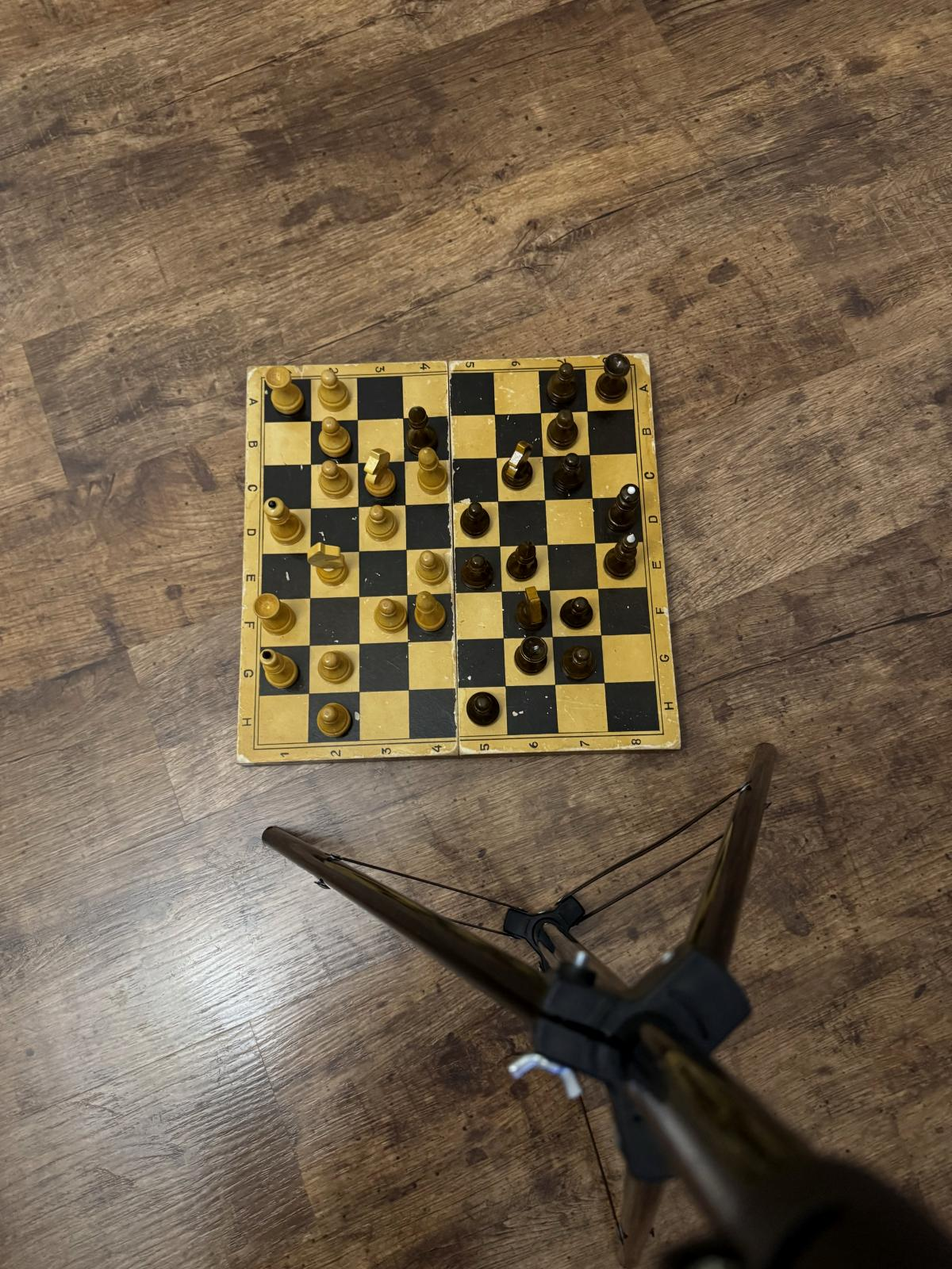Chess-Board: (258, 367, 660, 745)
